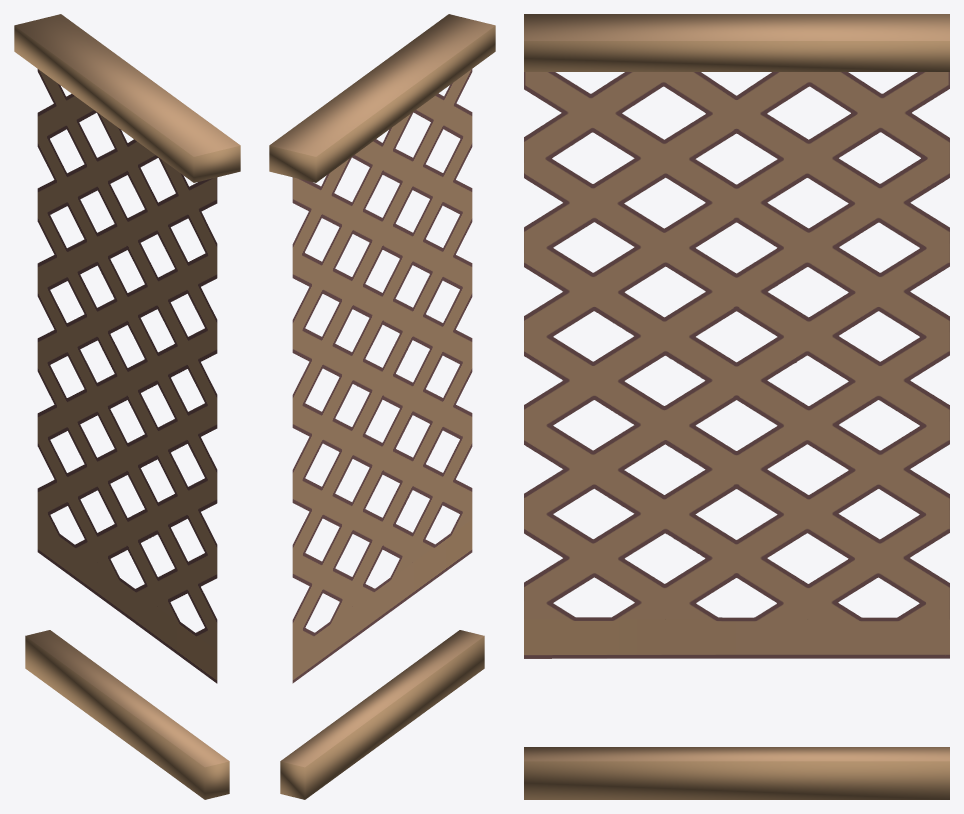
The model's file is Fence_RF_20008_03_SM.fbx.
3 renders of one model, left to right at view 1: azimuth 30°, elevation 25°; view 2: azimuth 150°, elevation 25°; view 3: azimuth 270°, elevation 25°, orthographic. The views are drawn at different scales.
Parts seen in each view (by area): view 1: Fence_RF_20008_03_P, Fence_RF_20008_03; view 2: Fence_RF_20008_03_P, Fence_RF_20008_03; view 3: Fence_RF_20008_03_P, Fence_RF_20008_03.
Part boxes in pixels (x1,y1,x2,y2): Fence_RF_20008_03_P: [37, 69, 217, 683]; Fence_RF_20008_03: [14, 14, 240, 799]; Fence_RF_20008_03_P: [292, 69, 472, 683]; Fence_RF_20008_03: [269, 14, 495, 799]; Fence_RF_20008_03_P: [524, 72, 949, 658]; Fence_RF_20008_03: [524, 14, 949, 799].
Size of the model in its own units: 15.08 by 198 by 100.
1 material, 1 textured.
